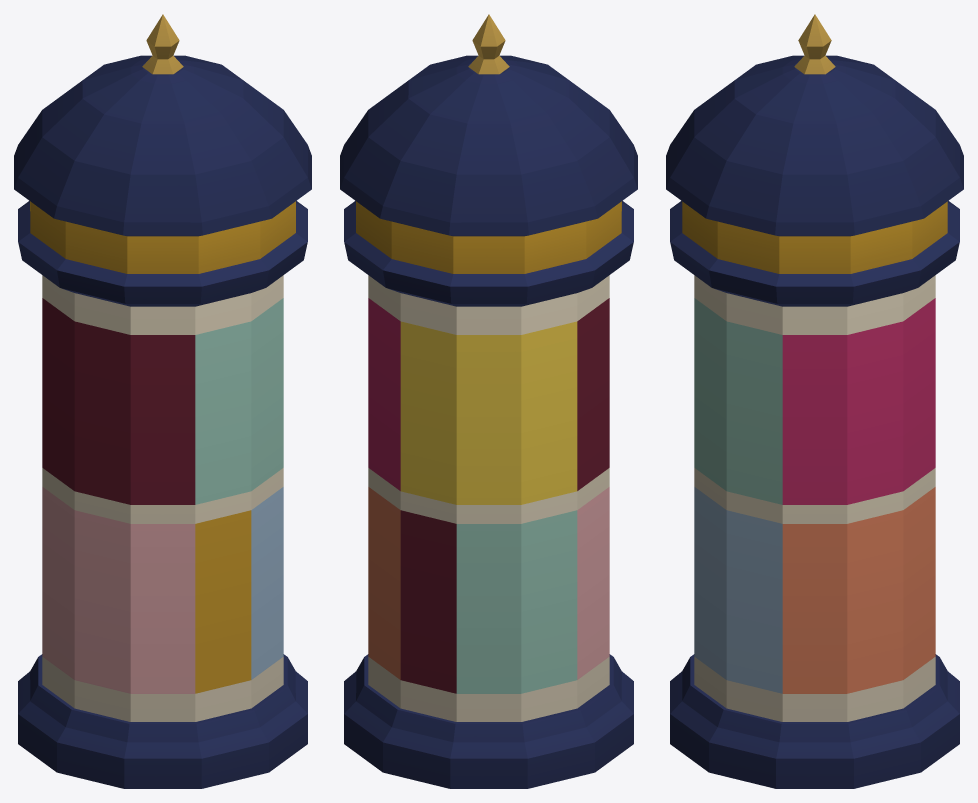
The model's file is poster_column.glb.
The picture shows the model from 3 angles, left to right: view 1: azimuth 30°, elevation 25°; view 2: azimuth 150°, elevation 25°; view 3: azimuth 270°, elevation 25°; orthographic projection.
Parts seen in each view (by area): view 1: poster_column.001; view 2: poster_column.001; view 3: poster_column.001.
Part boxes in pixels (<box>): poster_column.001: <box>14,14,311,788</box>; poster_column.001: <box>340,14,637,788</box>; poster_column.001: <box>666,14,963,788</box>.
Size of the model in its own units: 1.43 by 3.78 by 1.43.
1 material, 1 textured.
